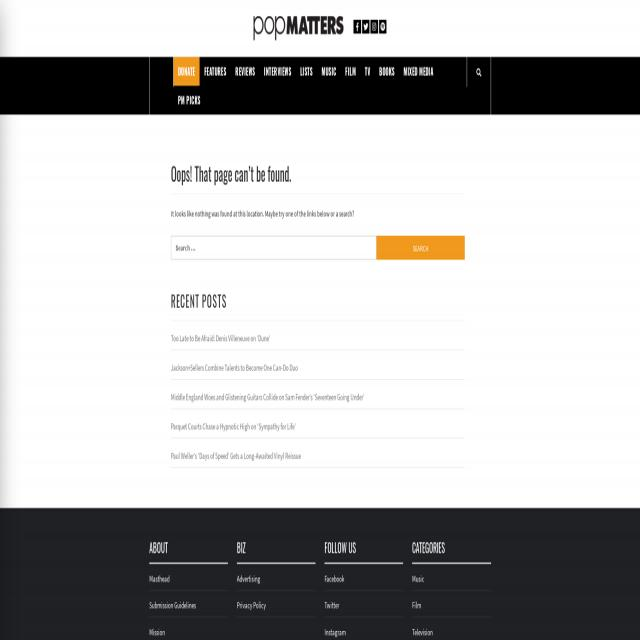button: (254, 16, 344, 40), (376, 236, 464, 260), (399, 57, 438, 86), (260, 57, 296, 86), (173, 86, 205, 115), (200, 57, 230, 86), (230, 57, 260, 86), (173, 57, 200, 86), (317, 57, 341, 86), (375, 57, 399, 86), (467, 58, 490, 86), (295, 57, 317, 86), (341, 57, 361, 86), (360, 57, 375, 86), (379, 20, 387, 35), (354, 20, 362, 34), (362, 20, 370, 34), (370, 20, 378, 34)
field: (171, 236, 377, 260)
